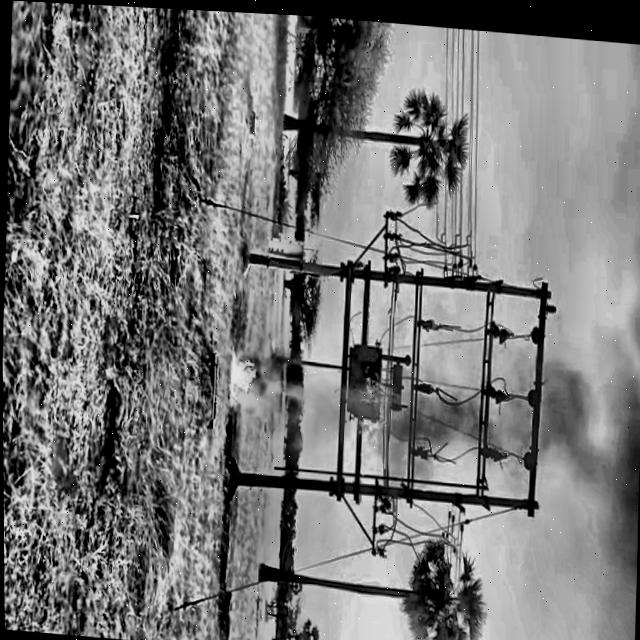Fire: (345, 360, 405, 448), (217, 331, 269, 414)
